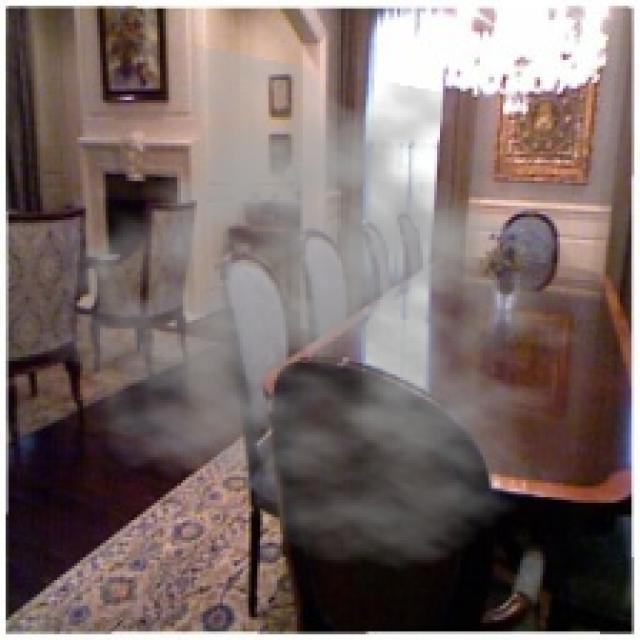smoke: (34, 43, 603, 571)
